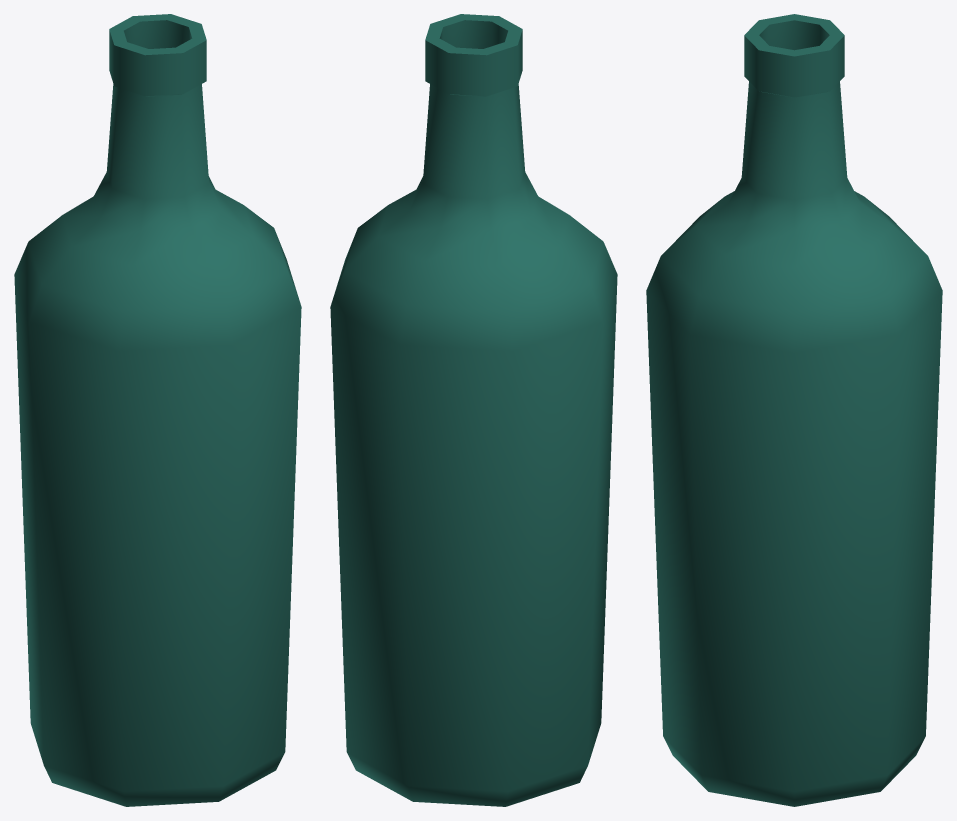
The model's file is SM_glassware_01.fbx.
3 renders of one model, left to right at view 1: azimuth 30°, elevation 25°; view 2: azimuth 150°, elevation 25°; view 3: azimuth 270°, elevation 25°, orthographic.
Visible parts, largest first — view 1: glassware_01; view 2: glassware_01; view 3: glassware_01.
Boxes of the visible parts, x1=… form: glassware_01: x1=14, y1=14, x2=301, y2=806; glassware_01: x1=330, y1=14, x2=617, y2=806; glassware_01: x1=646, y1=14, x2=942, y2=806.
Size of the model in its own units: 18.53 by 50.26 by 18.53.
